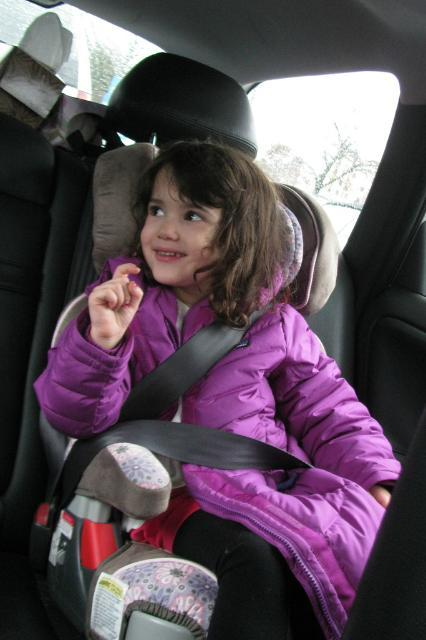SafeDriving: (176, 202, 213, 228), (140, 197, 170, 222)
Seatbelt: (49, 302, 314, 528)
